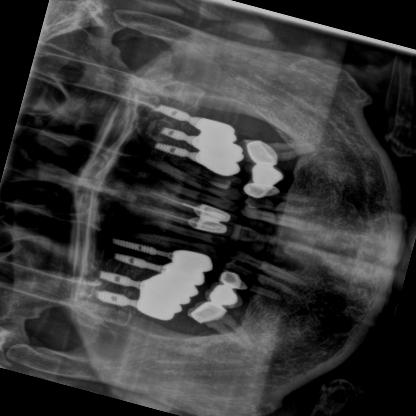Bicon: (107, 232, 157, 256), (95, 266, 134, 288), (151, 100, 190, 122), (112, 249, 148, 268), (94, 286, 128, 306), (155, 123, 187, 142), (154, 139, 188, 156)
